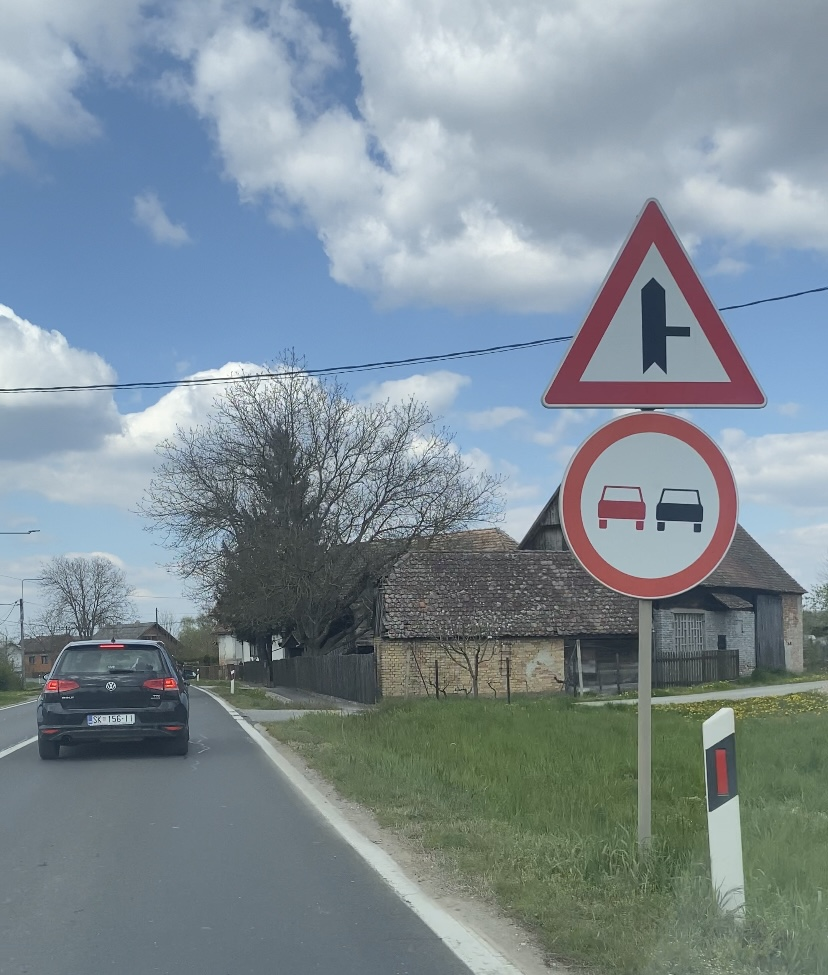Zabrana pretjecanja: (558, 411, 739, 600)
